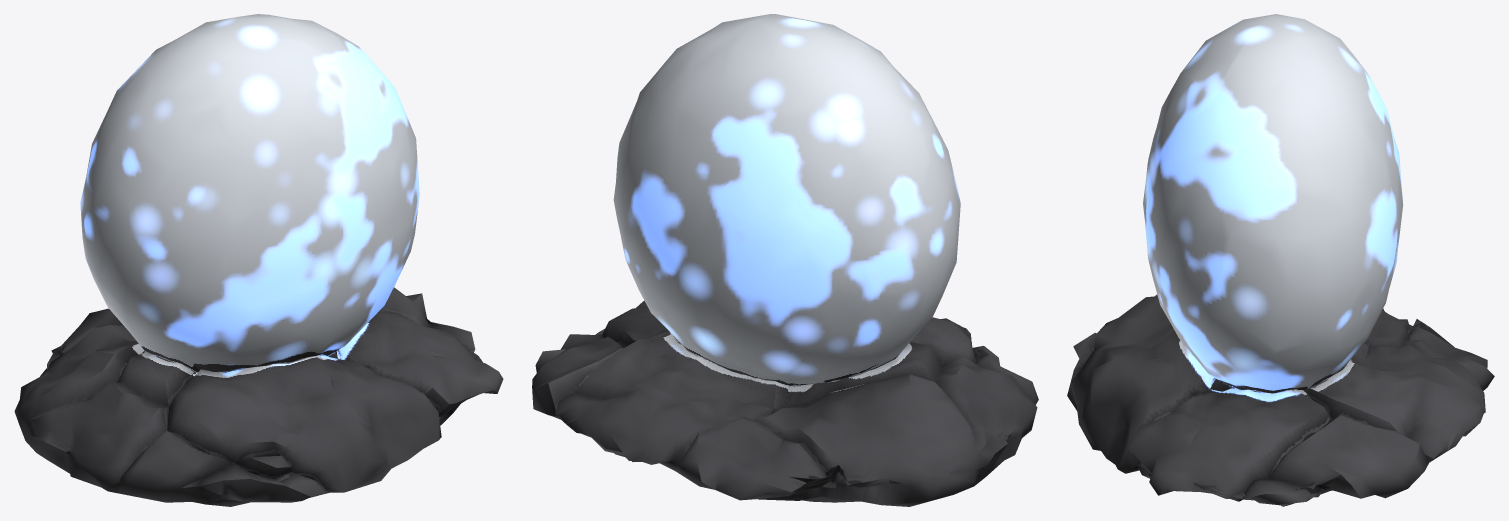
The model's file is piedra_lunar.fbx.
The picture shows the model from 3 angles, left to right: view 1: azimuth 30°, elevation 25°; view 2: azimuth 150°, elevation 25°; view 3: azimuth 270°, elevation 25°; orthographic projection. The views are drawn at different scales.
Visible parts, largest first — view 1: piedra_lunar; view 2: piedra_lunar; view 3: piedra_lunar.
Boxes of the visible parts, box(x1,y1,x2,y2) form: piedra_lunar: box(14, 14, 503, 506); piedra_lunar: box(532, 14, 1038, 506); piedra_lunar: box(1067, 14, 1494, 506).
Size of the model in its own units: 2.35 by 2.13 by 2.05.
1 material, 1 textured.
